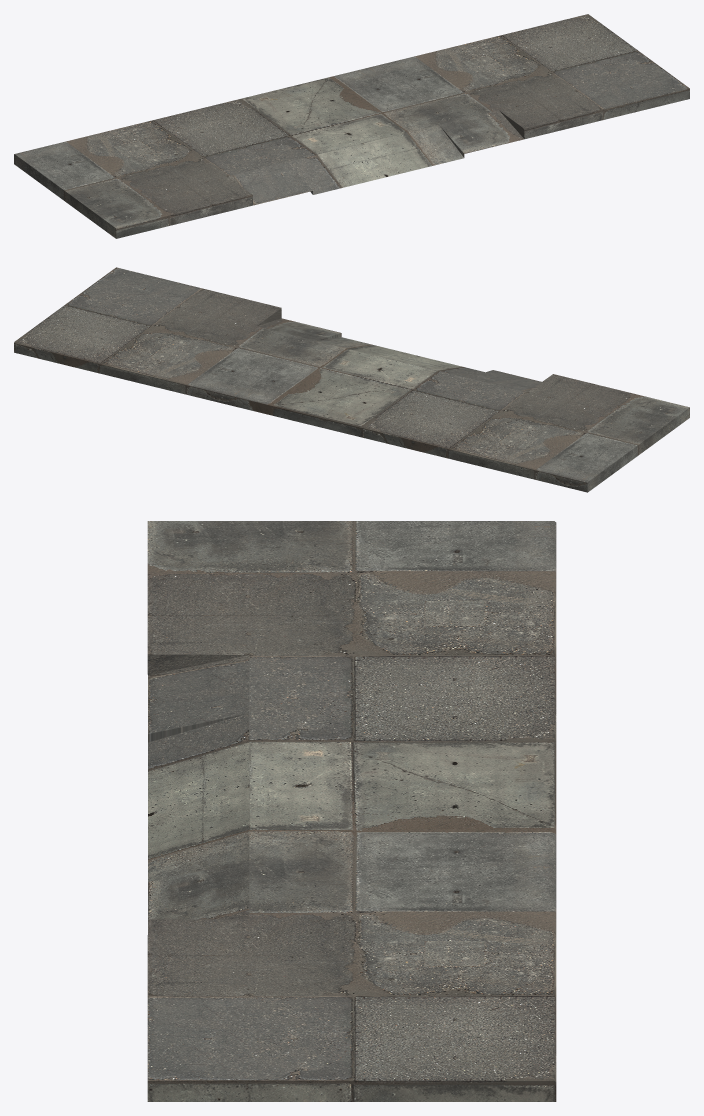
The model's file is SM_set_floor_01.fbx.
The picture shows the model from 3 angles, top to bottom: view 1: azimuth 30°, elevation 25°; view 2: azimuth 150°, elevation 25°; view 3: azimuth 270°, elevation 25°; orthographic projection. The views are drawn at different scales.
Parts seen in each view (by area): view 1: SM_set_floor_01; view 2: SM_set_floor_01; view 3: SM_set_floor_01.
Boxes of the visible parts, box(x1,y1,x2,y2) form: SM_set_floor_01: box(14, 14, 689, 238); SM_set_floor_01: box(14, 267, 689, 492); SM_set_floor_01: box(147, 521, 556, 1101).
Size of the model in its own units: 2864 by 884 by 70.35.
1 material, 1 textured.
